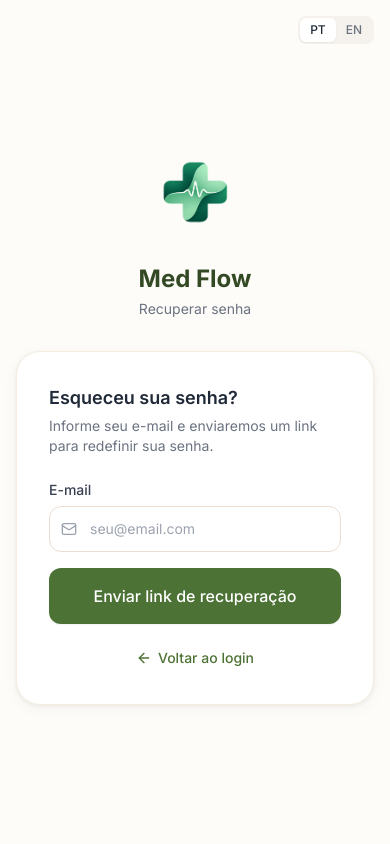
Password Recovery Journey › ForgotPasswordPage › shows error when email is not found (no resetUrl)
Type "user@test.com" into the field with placeholder "seu@email.com" at (195, 529), box [49,506,341,552]
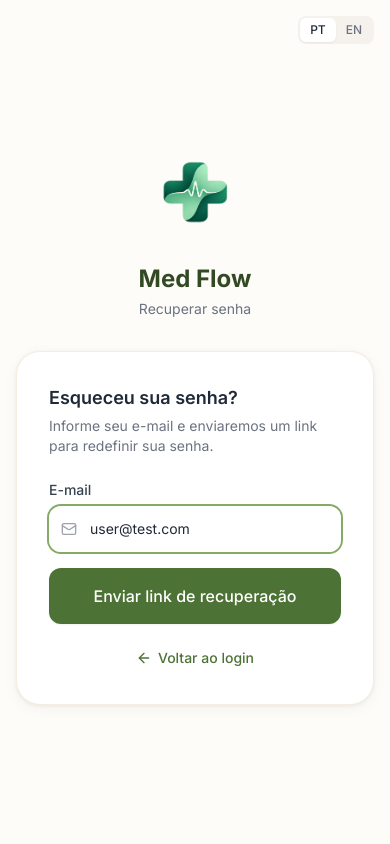
Click the button "Enviar link de recuperação" at (195, 596), box [49,568,341,624]
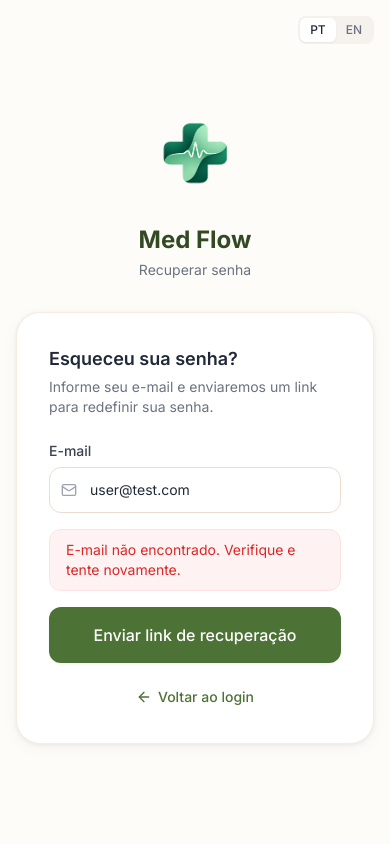
Check: the text "E-mail não encontrado. Verifique e tente novamente." is shown, box [49,529,341,591]
